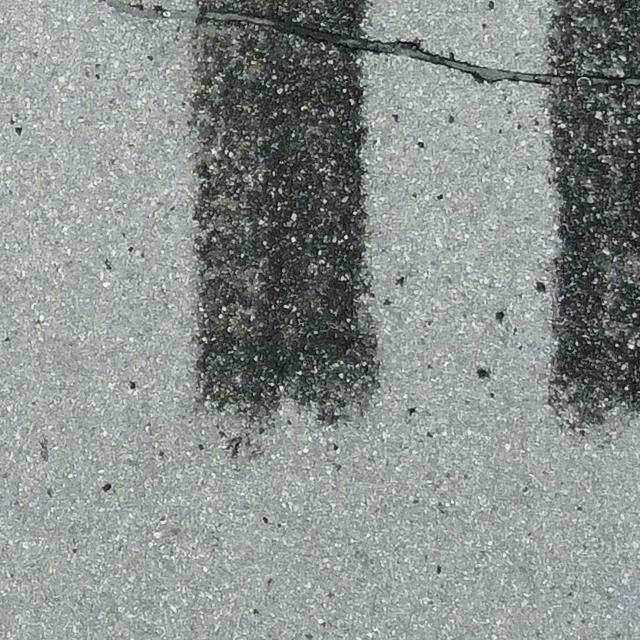TransverseCrack: (102, 1, 640, 90)
